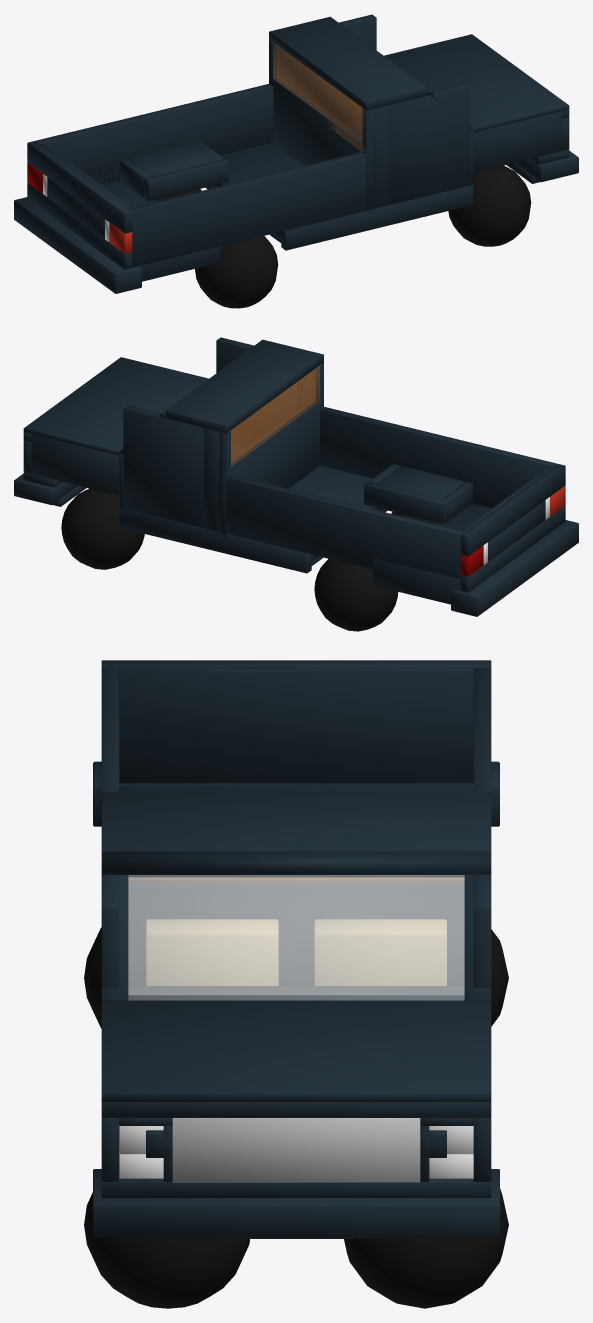
The model's file is Prop_PickupTruck_CS.glb.
3 renders of one model, top to bottom at view 1: azimuth 30°, elevation 25°; view 2: azimuth 150°, elevation 25°; view 3: azimuth 270°, elevation 25°, orthographic. The views are drawn at different scales.
Parts seen in each view (by area): view 1: Prop_PickupTruck_CS; view 2: Prop_PickupTruck_CS; view 3: Prop_PickupTruck_CS.
Part boxes in pixels (box(x1,y1,x2,y2)): Prop_PickupTruck_CS: box(14, 14, 578, 308); Prop_PickupTruck_CS: box(14, 337, 578, 631); Prop_PickupTruck_CS: box(84, 660, 508, 1308).
Bounding box in the file's own units: 6.78 × 2.6 × 2.69.
